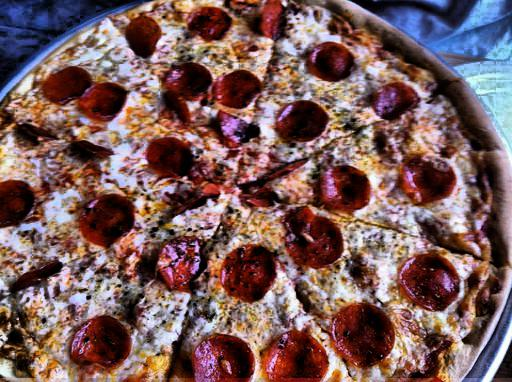pizza: (2, 9, 509, 382)
